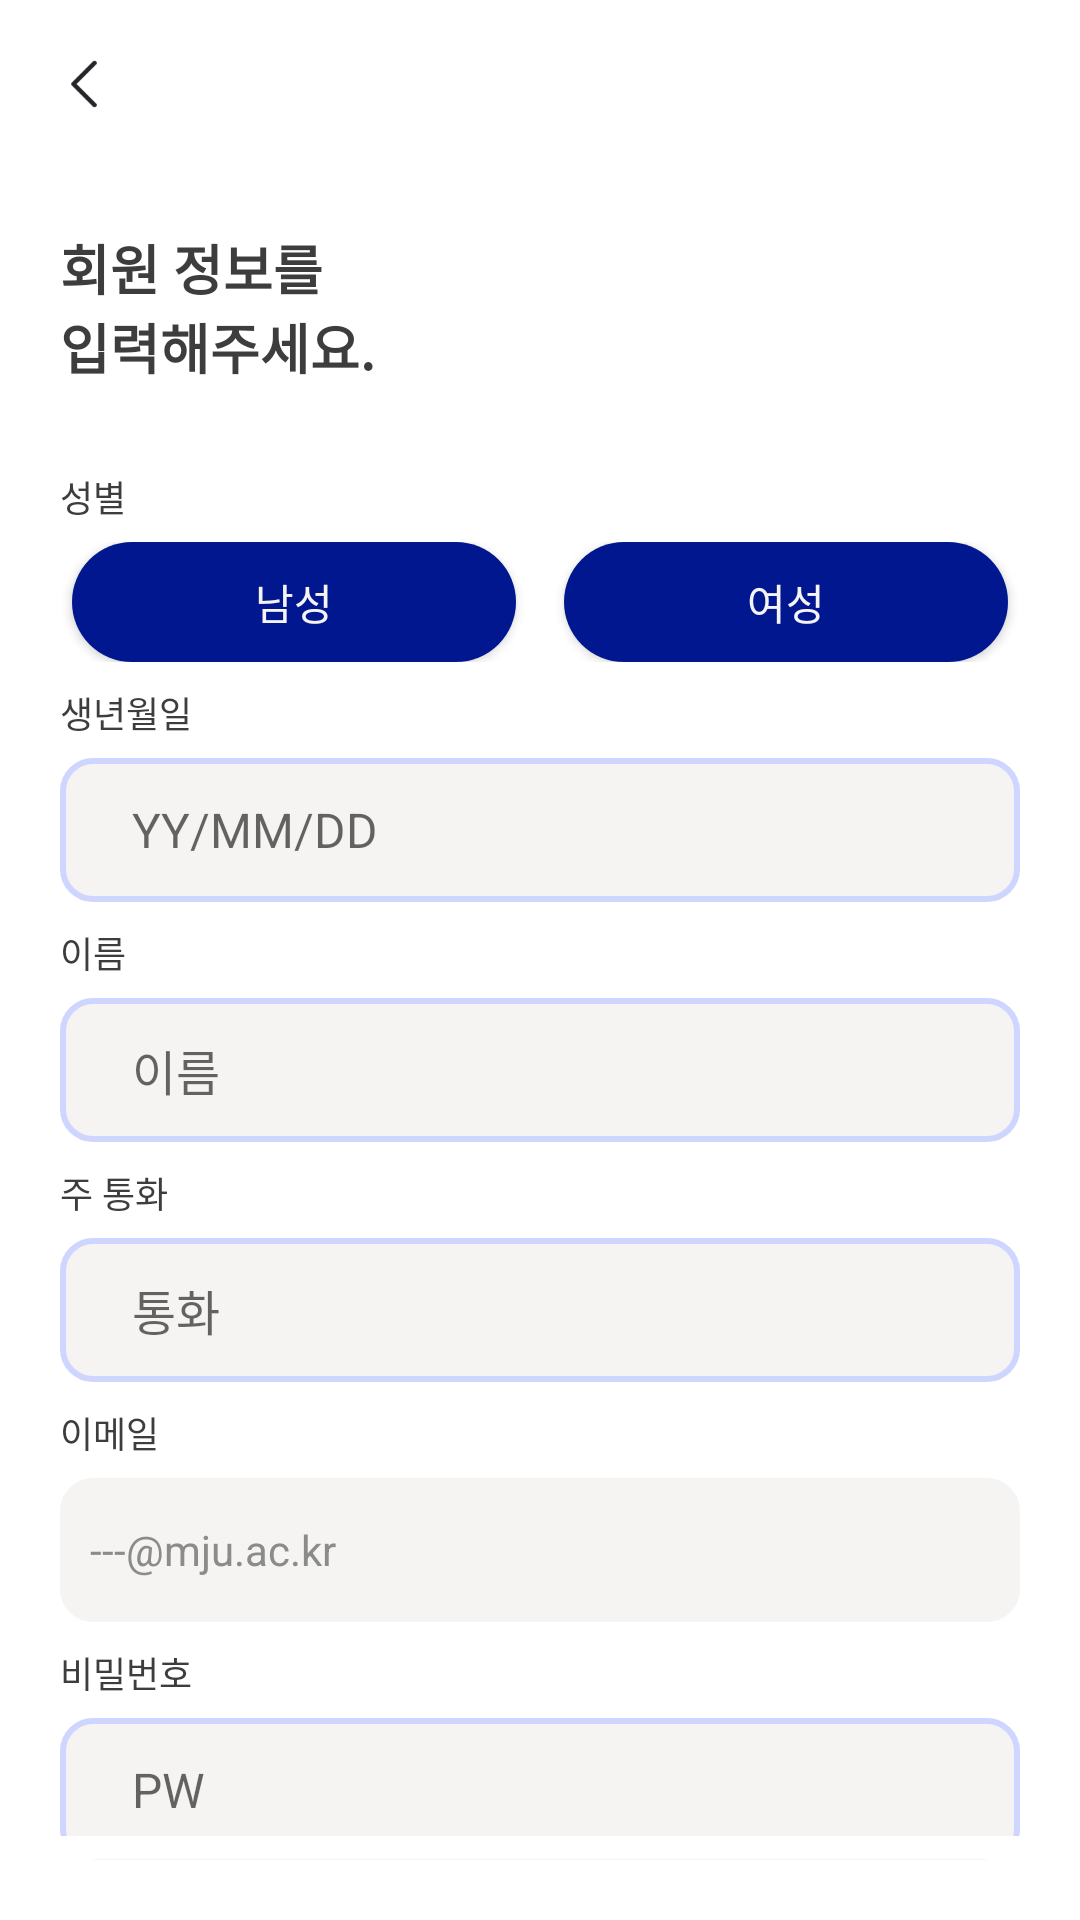

Point at icon controls on the screen. Image size 1080×1920, points as [x,y].
arrow: [84,84]
